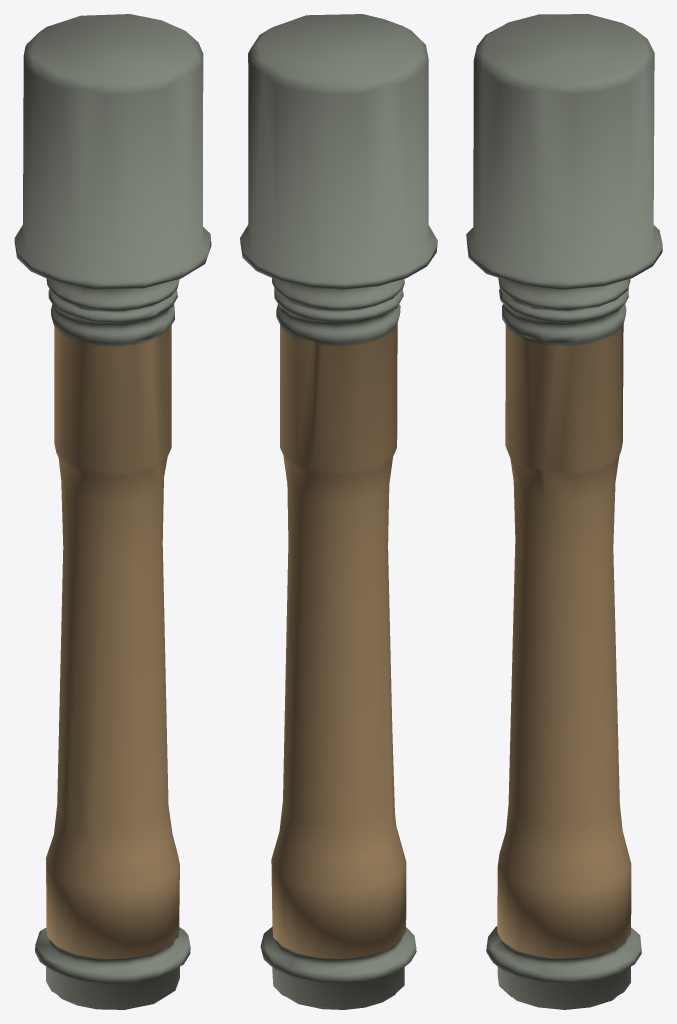
Rendered from stielhandgranate.glb.
3 views of the same model, side by side, from view 1: azimuth 30°, elevation 25°; view 2: azimuth 150°, elevation 25°; view 3: azimuth 270°, elevation 25° (orthographic).
Parts seen in each view (by area): view 1: Grenade; view 2: Grenade; view 3: Grenade.
Boxes of the visible parts, x1,y1,x2,y2 form: Grenade: (14,14,211,1009); Grenade: (240,14,437,1009); Grenade: (466,14,662,1009).
Bounding box in the file's own units: 0.0699 × 0.365 × 0.0695.
